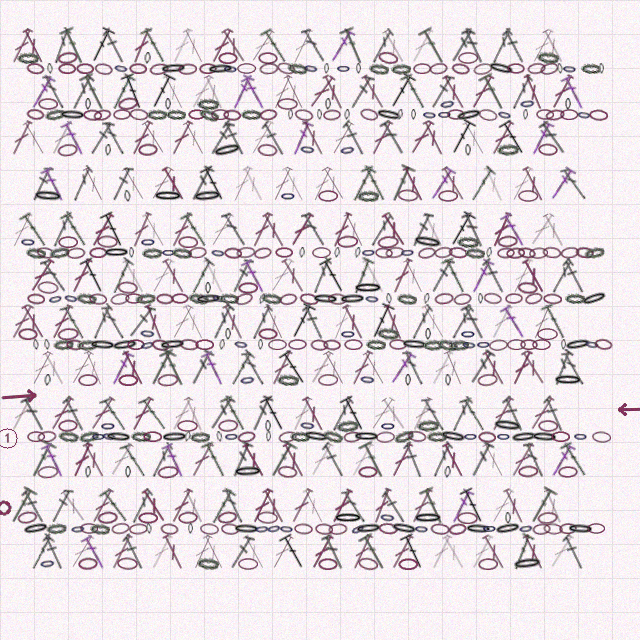chain: (212, 141, 243, 159), (580, 289, 609, 308), (412, 234, 443, 250), (487, 60, 515, 77), (492, 418, 523, 433), (512, 556, 543, 571), (375, 107, 403, 123), (455, 107, 483, 123), (192, 189, 223, 203), (33, 189, 63, 203), (564, 337, 592, 352), (302, 429, 330, 444), (439, 429, 467, 444), (22, 521, 50, 536), (390, 521, 418, 536), (494, 521, 522, 536), (111, 338, 139, 352), (510, 430, 538, 444), (233, 465, 263, 478), (393, 428, 415, 445), (153, 190, 183, 202), (353, 282, 383, 294), (553, 374, 583, 386), (333, 512, 363, 524), (413, 512, 443, 524), (377, 50, 399, 66), (198, 107, 220, 123), (357, 556, 379, 572), (160, 62, 187, 75), (159, 338, 186, 351), (401, 338, 428, 351), (355, 522, 382, 535), (117, 96, 139, 111), (44, 107, 66, 122), (78, 429, 100, 444), (322, 429, 344, 444), (207, 63, 234, 75), (59, 109, 86, 121), (195, 293, 222, 305), (312, 293, 339, 305), (339, 293, 366, 305), (89, 339, 116, 351), (105, 431, 132, 443), (161, 431, 188, 443), (531, 431, 558, 443), (233, 523, 260, 535), (465, 523, 492, 535), (567, 523, 594, 535), (336, 419, 359, 433), (234, 291, 254, 307), (539, 61, 560, 76), (49, 245, 70, 260), (584, 245, 605, 260), (17, 510, 38, 525), (217, 510, 238, 525), (377, 235, 399, 249), (57, 327, 79, 341), (157, 373, 179, 387), (37, 465, 59, 479), (157, 465, 179, 479), (276, 61, 296, 76), (359, 107, 379, 122), (524, 291, 544, 306), (103, 247, 130, 258), (353, 431, 380, 442), (57, 51, 78, 65), (57, 143, 78, 157), (257, 143, 278, 157), (517, 281, 538, 295), (437, 338, 458, 352), (477, 373, 498, 387), (277, 465, 298, 479), (537, 511, 558, 525), (349, 521, 367, 537), (537, 51, 559, 64), (497, 143, 519, 156), (397, 189, 419, 202), (37, 281, 59, 294), (377, 327, 399, 340), (417, 419, 439, 432), (197, 557, 219, 570), (149, 62, 169, 76), (473, 62, 493, 76), (294, 108, 314, 122), (478, 108, 498, 122), (545, 108, 565, 122), (253, 246, 273, 260), (417, 246, 437, 260), (110, 292, 130, 306), (299, 292, 319, 306), (287, 62, 308, 75), (97, 235, 118, 248), (337, 235, 358, 248), (497, 235, 518, 248), (117, 281, 138, 294), (76, 292, 97, 305), (135, 292, 156, 305), (188, 292, 209, 305), (261, 292, 282, 305), (53, 338, 74, 351), (58, 430, 79, 443), (97, 511, 118, 524), (257, 511, 278, 524), (46, 522, 67, 535), (117, 557, 138, 570), (94, 62, 113, 76), (451, 62, 470, 76), (93, 108, 112, 122), (36, 246, 55, 260), (517, 246, 536, 260), (279, 292, 298, 306), (453, 292, 472, 306), (151, 338, 170, 352), (237, 430, 256, 444), (278, 430, 297, 444), (448, 522, 467, 536), (17, 52, 39, 64), (197, 98, 219, 110), (357, 190, 379, 202), (457, 236, 479, 248), (277, 374, 299, 386), (259, 62, 279, 75), (129, 108, 149, 121), (138, 143, 158, 156), (538, 143, 558, 156), (236, 246, 256, 259), (385, 246, 405, 259), (448, 246, 468, 259), (542, 246, 562, 259), (560, 246, 580, 259), (434, 292, 454, 305), (179, 338, 199, 351), (58, 419, 78, 432), (218, 419, 238, 432), (37, 430, 57, 443), (407, 430, 427, 443), (518, 465, 538, 478), (178, 511, 198, 524), (378, 522, 398, 535), (78, 557, 98, 570), (277, 98, 298, 110), (537, 328, 558, 340), (177, 420, 198, 432), (457, 512, 478, 524), (26, 62, 45, 75), (429, 62, 448, 75), (527, 62, 546, 75), (26, 108, 45, 121), (259, 108, 278, 121), (188, 246, 207, 259), (434, 246, 453, 259), (575, 246, 594, 259), (483, 292, 502, 305), (594, 338, 613, 351), (111, 522, 130, 535), (218, 52, 238, 64), (258, 52, 278, 64), (458, 52, 478, 64), (369, 63, 389, 75), (391, 63, 411, 75), (38, 98, 58, 110), (318, 190, 338, 202), (438, 190, 458, 202), (518, 190, 538, 202), (58, 236, 78, 248), (178, 236, 198, 248), (26, 247, 46, 259), (66, 247, 86, 259), (142, 247, 162, 259), (172, 247, 192, 259), (465, 247, 485, 259), (238, 282, 258, 294), (397, 293, 417, 305), (18, 328, 38, 340), (258, 328, 278, 340), (77, 339, 97, 351), (423, 339, 443, 351), (449, 339, 469, 351), (78, 374, 98, 386), (118, 374, 138, 386), (318, 374, 338, 386), (538, 420, 558, 432), (190, 431, 210, 443), (358, 466, 378, 478), (558, 466, 578, 478), (138, 512, 158, 524), (90, 523, 110, 535), (328, 523, 348, 535), (430, 523, 450, 535), (543, 523, 563, 535), (238, 558, 258, 570), (318, 558, 338, 570), (398, 558, 418, 570), (478, 558, 498, 570), (439, 97, 456, 111), (496, 108, 513, 122), (339, 143, 356, 157), (47, 292, 64, 306), (139, 338, 156, 352), (239, 373, 256, 387), (178, 63, 197, 75), (83, 109, 102, 121), (589, 109, 608, 121), (506, 247, 525, 259), (529, 247, 548, 259), (328, 293, 347, 305), (543, 293, 562, 305), (310, 339, 329, 351), (489, 339, 508, 351), (343, 431, 362, 443), (376, 431, 395, 443), (592, 431, 611, 443), (129, 523, 148, 535), (160, 523, 179, 535), (200, 523, 219, 535), (294, 523, 313, 535), (532, 523, 551, 535), (519, 97, 536, 110), (299, 143, 316, 156), (139, 327, 156, 340), (359, 373, 376, 386), (299, 419, 316, 432), (379, 511, 396, 524), (39, 557, 56, 570), (581, 63, 601, 74), (147, 109, 167, 120), (166, 109, 186, 120), (241, 109, 261, 120), (219, 293, 239, 304), (565, 293, 585, 304), (366, 339, 386, 350), (131, 431, 151, 442), (290, 431, 310, 442), (427, 431, 447, 442), (223, 109, 241, 121), (323, 109, 341, 121), (224, 247, 242, 259), (375, 247, 393, 259), (497, 247, 515, 259), (27, 293, 45, 305), (89, 293, 107, 305), (156, 293, 174, 305), (66, 339, 84, 351), (323, 339, 341, 351), (478, 431, 496, 443), (221, 523, 239, 535), (315, 523, 333, 535), (237, 63, 256, 74), (312, 247, 331, 258), (195, 339, 214, 350), (268, 339, 287, 350), (288, 339, 307, 350), (344, 339, 363, 350), (507, 339, 526, 350), (532, 339, 551, 350), (143, 431, 162, 442), (551, 431, 570, 442), (113, 62, 129, 75), (303, 62, 319, 75), (63, 292, 79, 305), (211, 292, 227, 305), (233, 338, 249, 351), (584, 338, 600, 351), (101, 430, 117, 443), (266, 522, 282, 535), (518, 522, 534, 535), (58, 63, 76, 74), (76, 63, 94, 74), (129, 63, 147, 74), (199, 63, 217, 74), (413, 63, 431, 74), (507, 63, 525, 74), (113, 109, 131, 120), (188, 109, 206, 120), (211, 109, 229, 120), (447, 109, 465, 120), (536, 109, 554, 120), (560, 109, 578, 120), (89, 247, 107, 258), (275, 247, 293, 258), (125, 293, 143, 304), (171, 293, 189, 304), (505, 293, 523, 304), (127, 339, 145, 350), (389, 339, 407, 350), (520, 339, 538, 350), (27, 431, 45, 442), (80, 523, 98, 534), (559, 523, 577, 534), (587, 523, 605, 534), (576, 109, 592, 121), (280, 190, 296, 202), (20, 236, 36, 248), (140, 236, 156, 248), (210, 247, 226, 259), (364, 293, 380, 305), (340, 328, 356, 340), (460, 328, 476, 340), (461, 339, 477, 351), (100, 420, 116, 432), (380, 420, 396, 432), (70, 523, 86, 535), (254, 523, 270, 535), (223, 63, 238, 75), (562, 63, 577, 75), (422, 109, 437, 121), (279, 523, 294, 535), (414, 523, 429, 535), (336, 63, 351, 74), (437, 109, 452, 120), (161, 247, 176, 258), (361, 247, 376, 258), (400, 247, 415, 258), (476, 339, 491, 350), (91, 431, 106, 442), (224, 431, 239, 442), (463, 431, 478, 442), (496, 431, 511, 442), (573, 431, 588, 442), (482, 523, 497, 534), (258, 293, 266, 305), (144, 52, 151, 64), (124, 190, 131, 202), (44, 374, 51, 386), (444, 466, 451, 478), (354, 247, 361, 258), (423, 293, 430, 304), (184, 431, 191, 442), (216, 431, 223, 442), (85, 98, 91, 110), (165, 98, 171, 110), (325, 98, 331, 110), (565, 98, 571, 110), (105, 144, 111, 156), (465, 144, 471, 156), (205, 282, 211, 294), (225, 328, 231, 340), (425, 328, 431, 340), (405, 374, 411, 386), (445, 374, 451, 386), (265, 420, 271, 432), (85, 466, 91, 478), (125, 466, 131, 478), (505, 512, 511, 524), (47, 63, 53, 74), (557, 63, 563, 74), (344, 109, 350, 120), (397, 109, 403, 120), (299, 247, 305, 258), (334, 247, 340, 258), (486, 247, 492, 258), (386, 293, 392, 304), (33, 339, 39, 350), (44, 339, 50, 350), (219, 339, 225, 350), (146, 523, 152, 534), (324, 63, 329, 74), (356, 63, 361, 74), (599, 63, 604, 74), (288, 109, 293, 120), (317, 109, 322, 120), (411, 109, 416, 120), (523, 109, 528, 120), (129, 247, 134, 258), (478, 293, 483, 304), (258, 339, 263, 350), (561, 339, 566, 350), (266, 431, 271, 442), (188, 523, 193, 534)
double: (266, 440, 298, 480), (6, 486, 38, 526), (526, 486, 558, 526), (358, 532, 390, 572), (278, 348, 310, 387), (418, 26, 449, 66), (478, 72, 509, 112), (146, 348, 177, 388), (358, 440, 389, 480), (98, 487, 130, 525), (386, 72, 417, 111), (498, 118, 529, 157), (446, 210, 477, 249), (318, 256, 349, 295), (278, 532, 309, 571), (59, 26, 89, 66), (79, 72, 109, 112), (159, 348, 189, 388), (27, 440, 57, 480), (18, 211, 49, 249), (206, 487, 237, 525), (147, 72, 177, 111), (447, 118, 477, 157), (199, 164, 229, 203), (347, 164, 377, 203), (59, 210, 89, 249), (287, 302, 317, 341), (259, 394, 289, 433), (339, 394, 369, 433), (559, 440, 589, 479), (339, 26, 368, 66), (387, 164, 416, 204), (419, 486, 448, 526), (538, 119, 569, 156), (138, 395, 169, 432), (58, 487, 89, 524), (259, 27, 289, 65), (467, 165, 497, 203), (179, 211, 209, 249), (99, 395, 129, 433), (119, 441, 149, 479), (87, 26, 116, 65), (139, 26, 168, 65), (107, 72, 136, 111), (399, 72, 428, 111), (99, 210, 128, 249), (79, 256, 108, 295), (367, 302, 396, 341), (219, 394, 248, 433), (459, 486, 488, 525), (399, 532, 428, 571), (306, 74, 337, 110), (219, 27, 249, 64), (247, 27, 277, 64), (427, 165, 457, 202), (547, 165, 577, 202), (379, 211, 409, 248), (527, 211, 557, 248), (387, 349, 417, 386), (87, 395, 117, 432), (367, 395, 397, 432), (379, 395, 409, 432), (139, 487, 169, 524), (187, 257, 216, 295), (59, 303, 88, 341), (227, 349, 256, 387), (459, 395, 488, 433), (27, 533, 56, 571), (360, 164, 388, 203), (440, 256, 468, 295), (540, 302, 568, 341), (200, 440, 228, 479), (327, 27, 356, 64), (359, 73, 388, 110), (139, 119, 168, 156), (247, 119, 276, 156), (379, 119, 408, 156), (407, 119, 436, 156), (119, 165, 148, 202), (147, 165, 176, 202), (159, 165, 188, 202), (319, 165, 348, 202), (439, 165, 468, 202), (207, 211, 236, 248), (287, 211, 316, 248), (499, 211, 528, 248), (27, 257, 56, 294), (267, 257, 296, 294), (279, 257, 308, 294), (19, 303, 48, 340), (419, 303, 448, 340), (499, 303, 528, 340), (67, 349, 96, 386), (307, 349, 336, 386), (467, 349, 496, 386), (519, 349, 548, 386), (47, 395, 76, 432), (207, 395, 236, 432), (527, 395, 556, 432), (107, 441, 136, 478), (307, 441, 336, 478), (67, 533, 96, 570), (547, 533, 576, 570), (380, 27, 408, 65), (408, 27, 436, 65), (448, 27, 476, 65), (528, 27, 556, 65), (28, 73, 56, 111), (188, 73, 216, 111), (240, 73, 268, 111), (280, 73, 308, 111), (440, 73, 468, 111), (468, 73, 496, 111), (548, 73, 576, 111), (20, 119, 48, 157), (180, 119, 208, 157), (328, 119, 356, 157), (460, 119, 488, 157), (488, 119, 516, 157), (88, 211, 116, 249), (140, 211, 168, 249), (260, 211, 288, 249), (540, 211, 568, 249), (120, 257, 148, 295), (148, 257, 176, 295), (160, 257, 188, 295), (240, 257, 268, 295), (360, 257, 388, 295), (520, 257, 548, 295), (8, 303, 36, 341), (168, 303, 196, 341), (460, 303, 488, 341), (40, 349, 68, 387), (320, 349, 348, 387), (360, 349, 388, 387), (428, 349, 456, 387), (480, 349, 508, 387), (20, 395, 48, 433), (128, 395, 156, 433), (168, 395, 196, 433), (488, 395, 516, 433), (80, 441, 108, 479), (188, 441, 216, 479), (240, 441, 268, 479), (280, 441, 308, 479), (348, 441, 376, 479), (508, 441, 536, 479), (548, 441, 576, 479), (88, 487, 116, 525), (260, 487, 288, 525), (488, 487, 516, 525), (80, 533, 108, 571), (240, 533, 268, 571), (268, 533, 296, 571), (308, 533, 336, 571), (388, 533, 416, 571), (440, 533, 468, 571), (468, 533, 496, 571), (480, 533, 508, 571), (120, 72, 147, 111), (348, 256, 375, 295), (508, 532, 535, 571), (8, 27, 35, 65), (20, 27, 47, 65), (180, 27, 207, 65), (208, 27, 235, 65), (540, 27, 567, 65), (160, 73, 187, 111), (320, 73, 347, 111), (560, 73, 587, 111), (8, 119, 35, 157), (48, 119, 75, 157), (60, 119, 87, 157), (128, 119, 155, 157), (168, 119, 195, 157), (300, 119, 327, 157), (368, 119, 395, 157), (420, 119, 447, 157), (528, 119, 555, 157), (40, 165, 67, 203), (80, 165, 107, 203), (188, 165, 215, 203), (240, 165, 267, 203), (280, 165, 307, 203), (400, 165, 427, 203), (508, 165, 535, 203), (520, 165, 547, 203), (8, 211, 35, 249), (168, 211, 195, 249), (420, 211, 447, 249), (68, 257, 95, 295), (108, 257, 135, 295), (400, 257, 427, 295), (468, 257, 495, 295), (48, 303, 75, 341), (180, 303, 207, 341), (220, 303, 247, 341), (340, 303, 367, 341), (488, 303, 515, 341), (28, 349, 55, 387), (108, 349, 135, 387), (120, 349, 147, 387), (188, 349, 215, 387), (200, 349, 227, 387), (268, 349, 295, 387), (348, 349, 375, 387), (8, 395, 35, 433), (300, 395, 327, 433), (40, 441, 67, 479), (388, 441, 415, 479), (440, 441, 467, 479), (468, 441, 495, 479), (480, 441, 507, 479), (168, 487, 195, 525), (288, 487, 315, 525), (300, 487, 327, 525), (328, 487, 355, 525), (408, 487, 435, 525), (448, 487, 475, 525), (108, 533, 135, 571), (148, 533, 175, 571), (160, 533, 187, 571), (200, 533, 227, 571), (428, 533, 455, 571), (520, 533, 547, 571), (127, 304, 156, 339), (380, 488, 408, 524), (320, 441, 347, 478), (20, 487, 47, 524), (169, 27, 195, 65), (289, 27, 315, 65), (461, 27, 487, 65), (201, 73, 227, 111), (229, 73, 255, 111), (269, 73, 295, 111), (229, 165, 255, 203), (269, 165, 295, 203), (309, 165, 335, 203), (481, 165, 507, 203), (249, 211, 275, 249), (341, 211, 367, 249), (461, 211, 487, 249), (201, 257, 227, 295), (389, 257, 415, 295), (509, 257, 535, 295), (261, 303, 287, 341), (509, 349, 535, 387), (181, 395, 207, 433), (289, 395, 315, 433), (409, 395, 435, 433), (69, 441, 95, 479), (161, 441, 187, 479), (181, 487, 207, 525), (249, 487, 275, 525), (501, 487, 527, 525), (189, 533, 215, 571), (321, 533, 347, 571), (349, 533, 375, 571), (560, 166, 588, 201), (68, 74, 95, 110), (348, 74, 375, 110), (88, 120, 115, 156), (208, 120, 235, 156), (260, 120, 287, 156), (40, 258, 67, 294), (228, 534, 255, 570), (101, 27, 127, 64), (501, 27, 527, 64), (429, 73, 455, 110), (221, 119, 247, 156), (341, 119, 367, 156), (221, 211, 247, 248), (429, 257, 455, 294), (481, 257, 507, 294), (561, 257, 587, 294), (209, 303, 235, 340), (61, 395, 87, 432), (129, 27, 154, 65), (521, 73, 546, 111), (289, 119, 314, 157), (129, 211, 154, 249), (329, 211, 354, 249), (489, 211, 514, 249), (329, 303, 354, 341), (381, 303, 406, 341), (529, 303, 554, 341), (81, 349, 106, 387), (441, 349, 466, 387), (249, 395, 274, 433), (229, 441, 254, 479), (541, 487, 566, 525), (368, 212, 395, 247), (369, 28, 395, 64), (549, 258, 575, 294), (449, 304, 475, 340), (329, 396, 355, 432), (341, 488, 367, 524), (301, 27, 326, 64), (301, 211, 326, 248), (301, 303, 326, 340), (501, 395, 526, 432), (49, 487, 74, 524), (41, 533, 66, 570), (121, 533, 146, 570), (561, 533, 586, 570), (142, 303, 166, 341), (370, 487, 394, 525), (489, 28, 514, 64), (509, 74, 534, 110), (101, 304, 126, 340), (249, 304, 274, 340), (409, 304, 434, 340), (241, 350, 266, 386), (561, 350, 586, 386), (421, 396, 446, 432), (449, 396, 474, 432), (149, 442, 174, 478), (129, 488, 154, 524), (42, 73, 66, 110), (102, 119, 126, 156), (30, 165, 54, 202), (70, 165, 94, 202), (110, 165, 134, 202), (50, 211, 74, 248), (410, 211, 434, 248), (230, 257, 254, 294), (90, 303, 114, 340), (550, 349, 574, 386), (542, 395, 566, 432), (430, 441, 454, 478), (310, 257, 333, 294), (402, 349, 425, 386), (402, 441, 425, 478), (222, 487, 245, 524), (523, 441, 545, 479), (51, 27, 72, 64)
noise: (0, 388, 39, 405), (0, 426, 19, 450), (615, 403, 640, 416), (0, 498, 14, 518)
